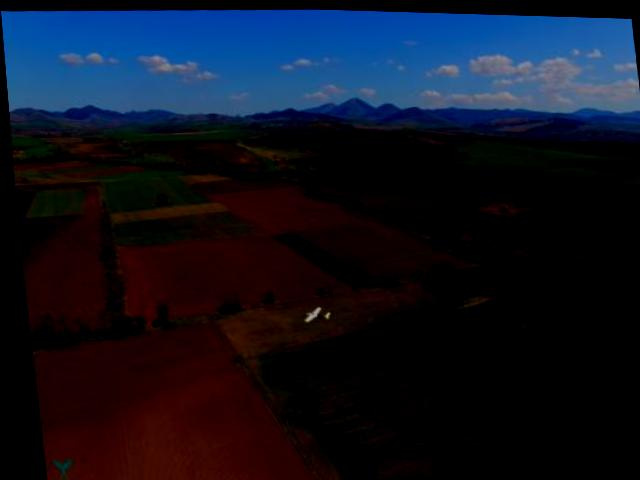uav: (289, 296, 335, 329)
